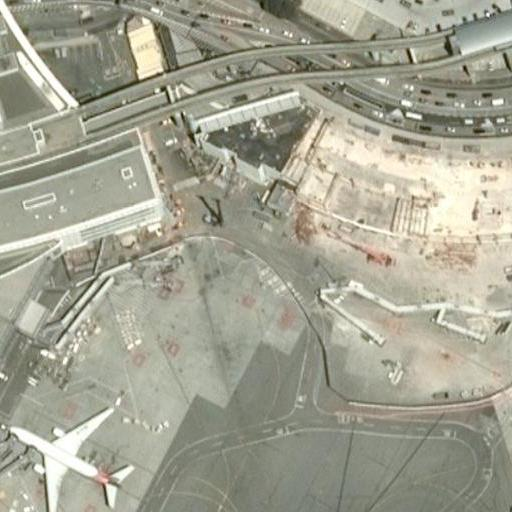Aircraft: (6, 405, 133, 510)
